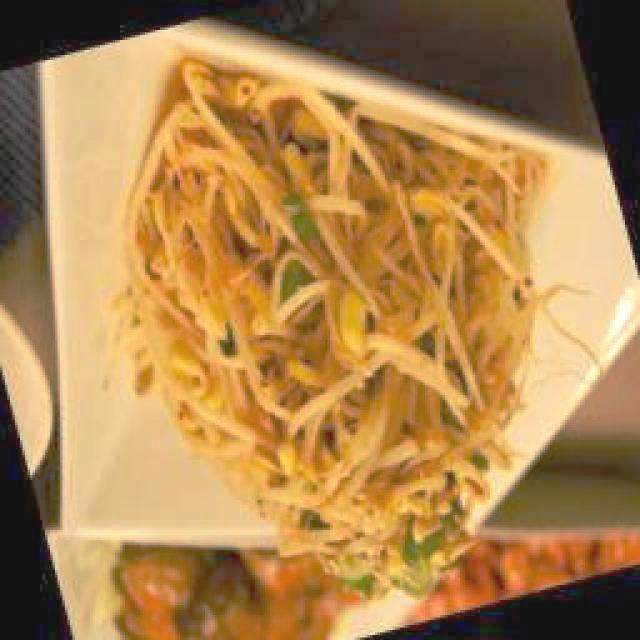mung_bean_sprouts: (127, 64, 538, 591)
